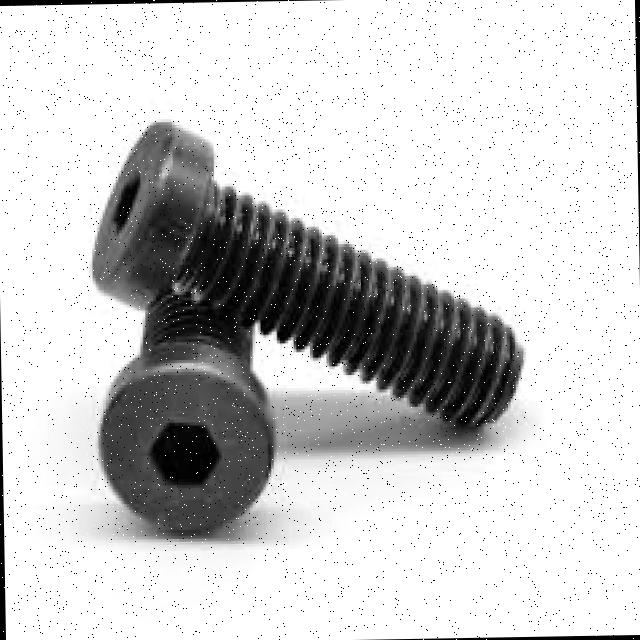Hex Socket Allen: (96, 360, 274, 529)
